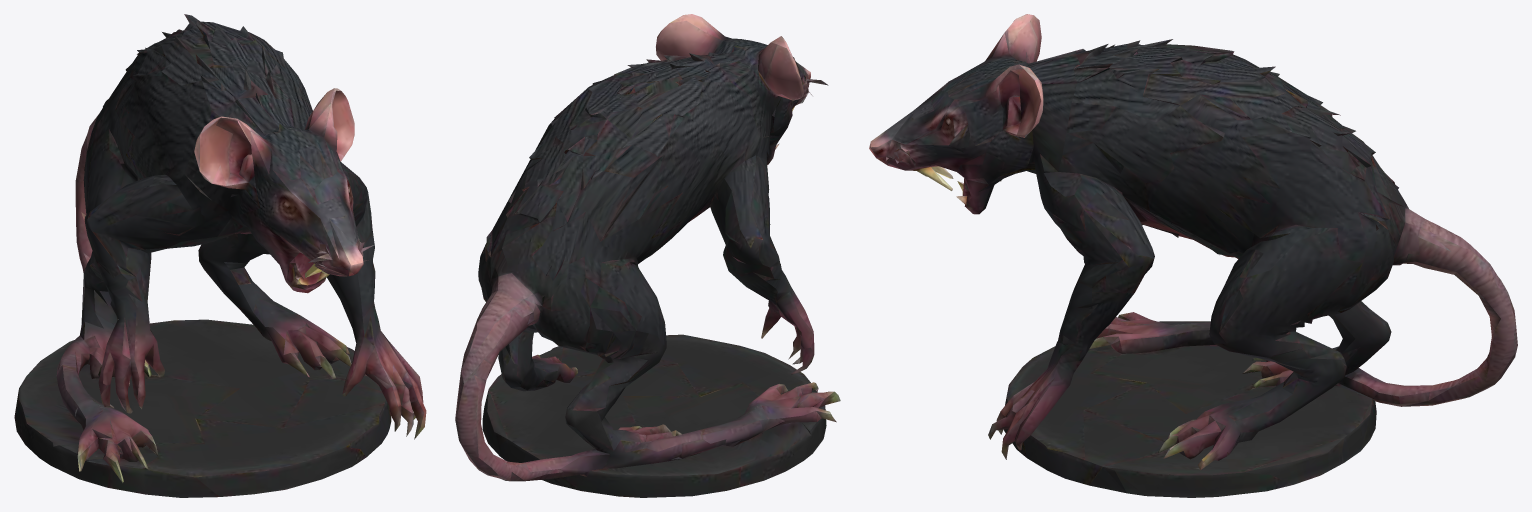
File: mob_rotfang.glb
3 views of the same model, side by side, from view 1: azimuth 30°, elevation 25°; view 2: azimuth 150°, elevation 25°; view 3: azimuth 270°, elevation 25° (orthographic). The views are drawn at different scales.
Size of the model in its own units: 1.1 by 1.22 by 1.9.
1 material, 1 textured.
